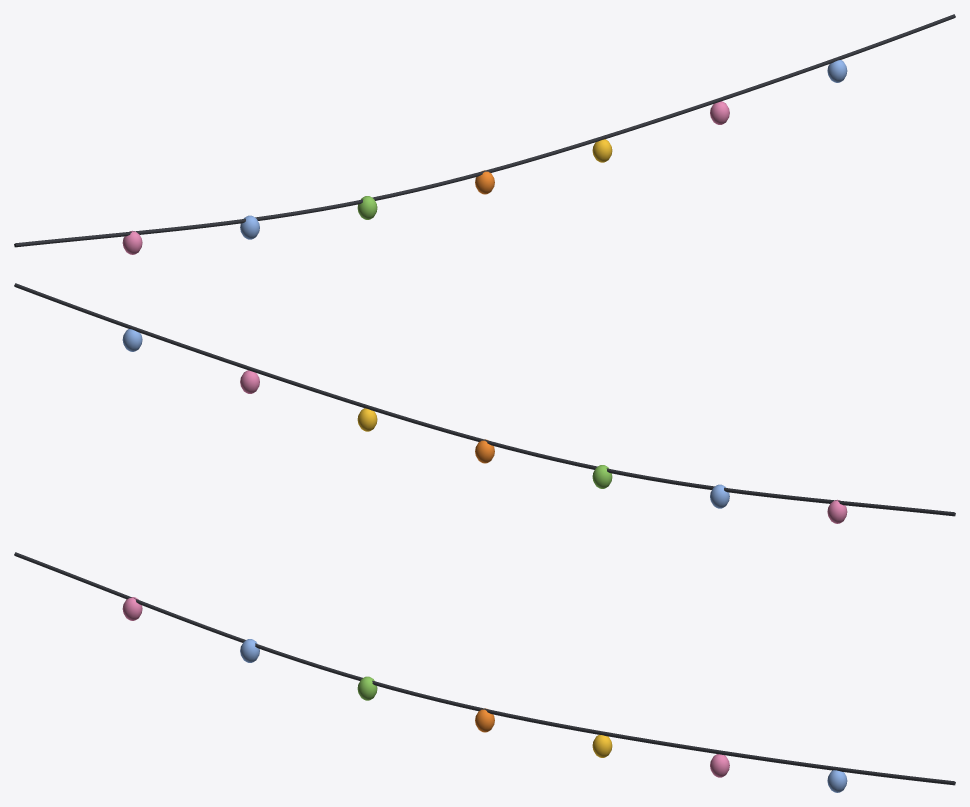
Rendered from fairy_lights.glb.
3 renders of one model, top to bottom at view 1: azimuth 30°, elevation 25°; view 2: azimuth 150°, elevation 25°; view 3: azimuth 330°, elevation 25°, orthographic.
Parts seen in each view (by area): view 1: root; view 2: root; view 3: root.
Boxes of the visible parts, left/top/right/bottom form: root: left=14, top=14, right=955, bottom=254; root: left=14, top=283, right=955, bottom=523; root: left=14, top=552, right=955, bottom=792.
Bounding box in the file's own units: 3.8 × 0.2517 × 0.07.
